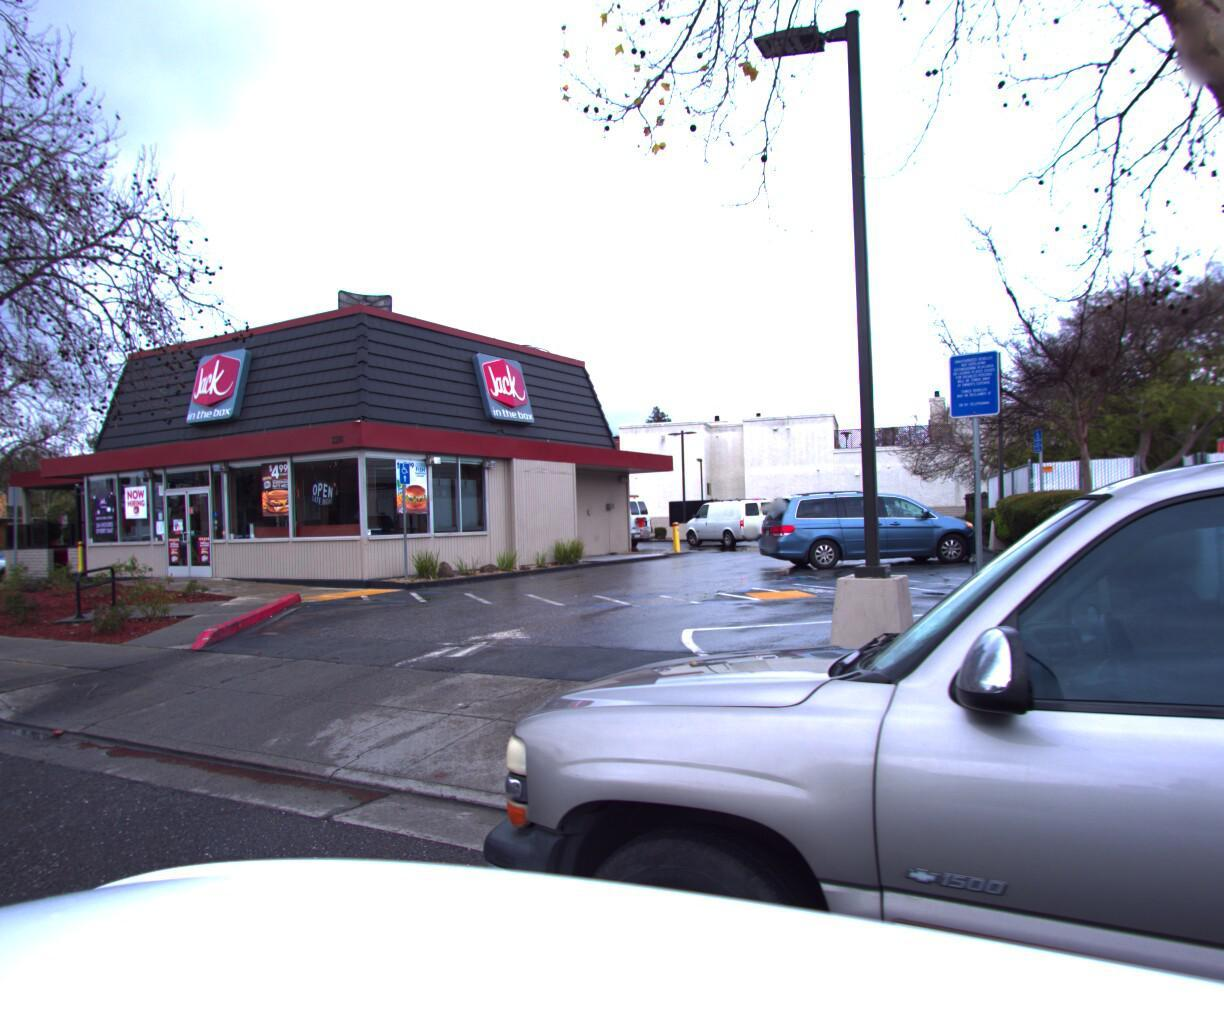car: (1126, 466, 1224, 584), (1194, 474, 1224, 591), (0, 544, 34, 601)
